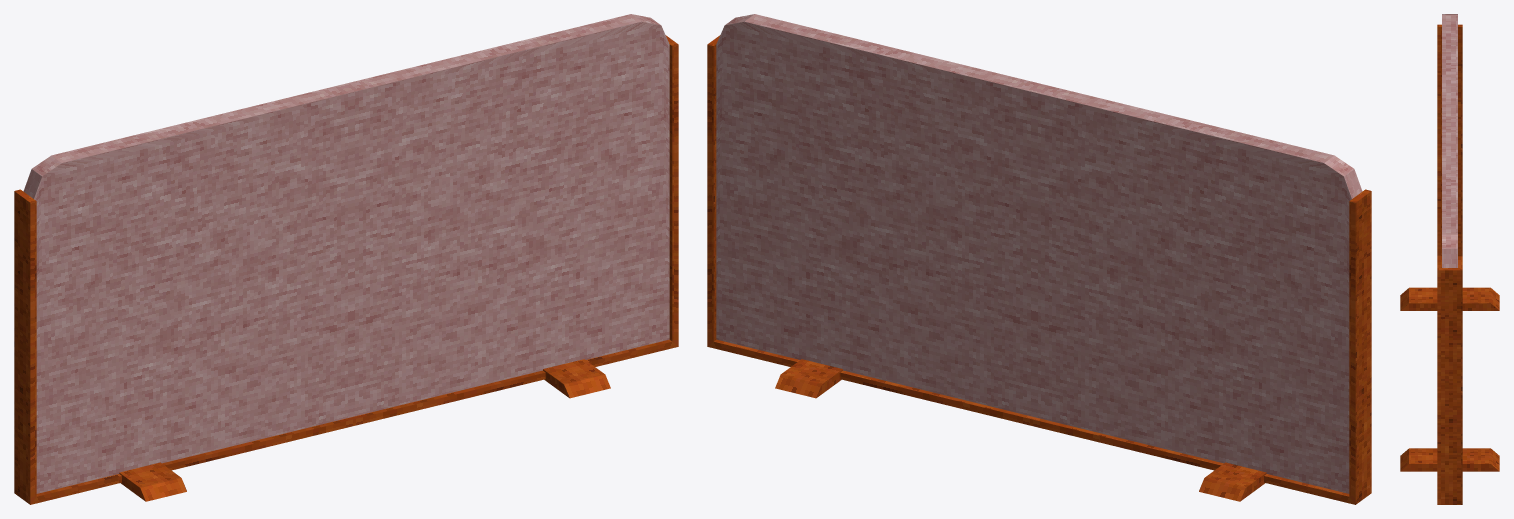
File: divider_veneer_red_low.glb
The picture shows the model from 3 angles, left to right: view 1: azimuth 30°, elevation 25°; view 2: azimuth 150°, elevation 25°; view 3: azimuth 270°, elevation 25°; orthographic projection. The views are drawn at different scales.
Visible parts, largest first — view 1: divider_veneer_red_low; view 2: divider_veneer_red_low; view 3: divider_veneer_red_low.
Part boxes in pixels (x1=…): divider_veneer_red_low: x1=14, y1=14, x2=678, y2=504; divider_veneer_red_low: x1=707, y1=14, x2=1371, y2=504; divider_veneer_red_low: x1=1400, y1=14, x2=1499, y2=504.
Size of the model in its own units: 3.06 by 1.5 by 0.523.
Materials: 1 (1 with a texture image).
